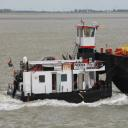tugboat: (6, 10, 115, 107)
